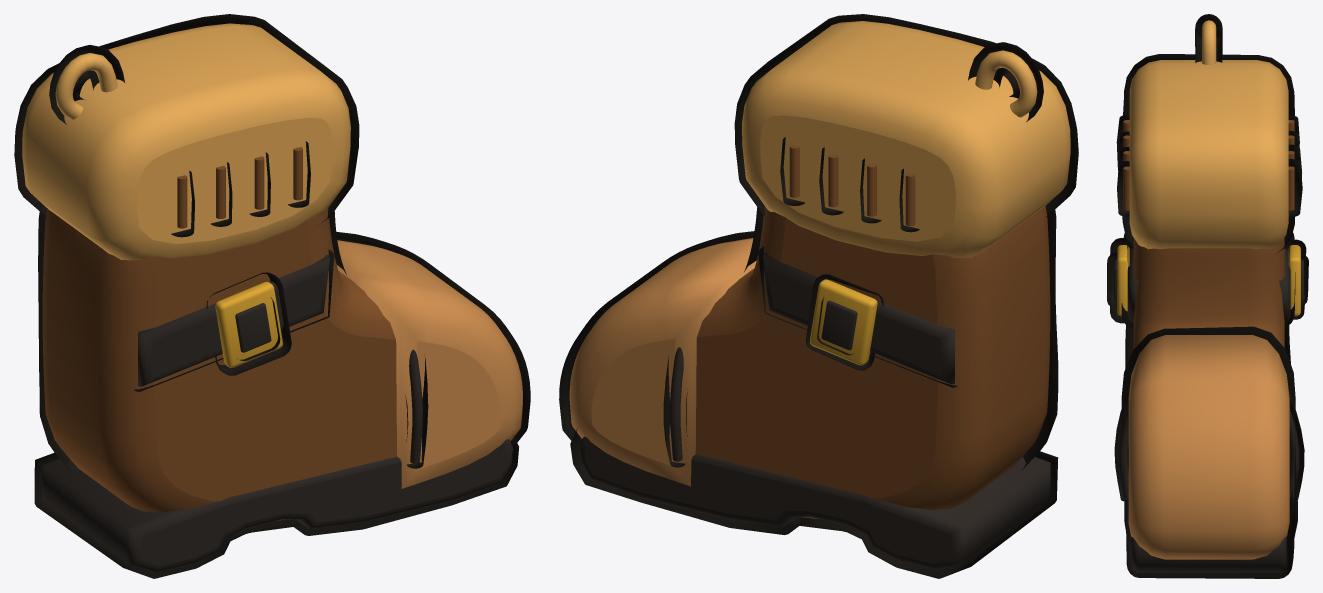
File: boot.glb
The picture shows the model from 3 angles, left to right: view 1: azimuth 30°, elevation 25°; view 2: azimuth 150°, elevation 25°; view 3: azimuth 270°, elevation 25°; orthographic projection. The views are drawn at different scales.
Visible parts, largest first — view 1: Boot, Boot_outline; view 2: Boot, Boot_outline; view 3: Boot, Boot_outline.
Boxes of the visible parts, <box> form: Boot: <box>22,23,522,572</box>; Boot_outline: <box>14,14,530,578</box>; Boot: <box>569,21,1070,570</box>; Boot_outline: <box>559,14,1078,578</box>; Boot: <box>1114,20,1303,572</box>; Boot_outline: <box>1107,14,1308,578</box>.
Bounding box in the file's own units: 2.1 × 2.26 × 0.9899.
